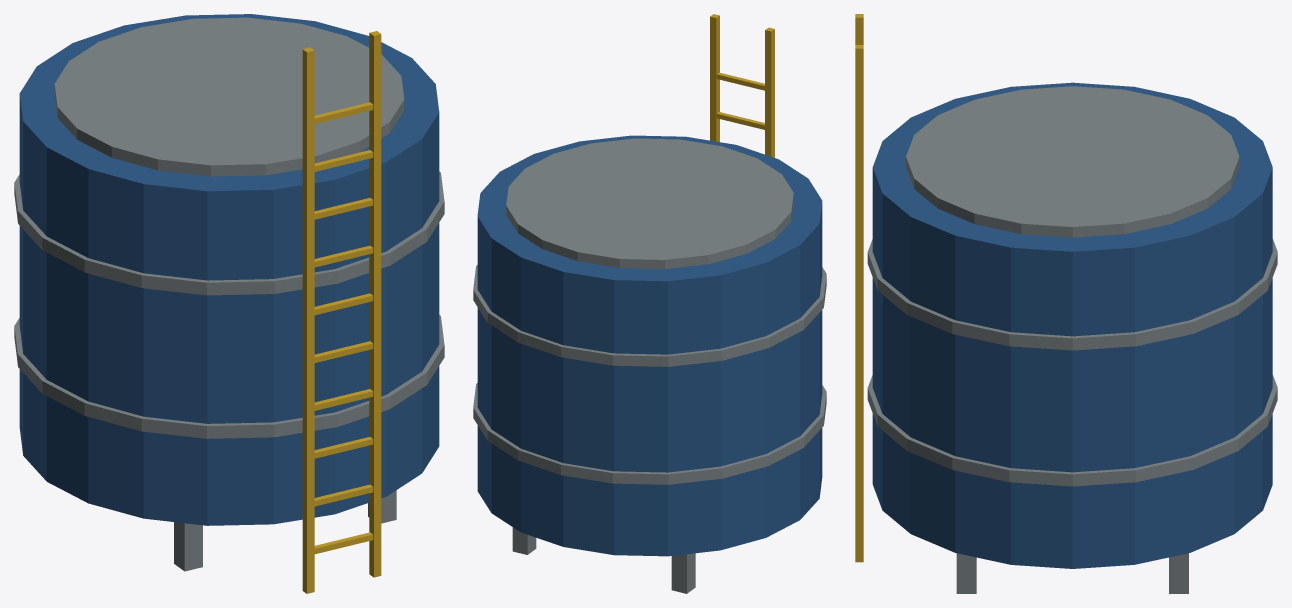
File: water_tank.glb
The picture shows the model from 3 angles, left to right: view 1: azimuth 30°, elevation 25°; view 2: azimuth 150°, elevation 25°; view 3: azimuth 270°, elevation 25°; orthographic projection. The views are drawn at different scales.
Parts seen in each view (by area): view 1: water_tank; view 2: water_tank; view 3: water_tank.
Part boxes in pixels (<box>): water_tank: <box>14,14,444,593</box>; water_tank: <box>473,14,826,593</box>; water_tank: <box>855,14,1277,593</box>.
Bounding box in the file's own units: 2.46 × 3.4 × 2.53.
